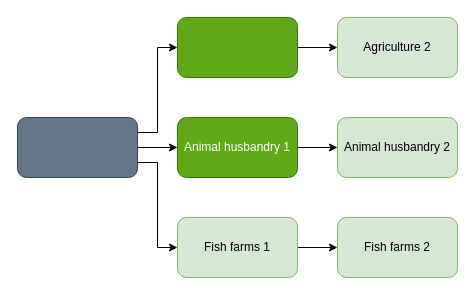
This 475x295 diagram has some shape labels left out. The shapes that lost their labels are listed below. From the top down, each one's box as (x1, y1, x2, y2) in pixels, then its label:
(176, 16, 298, 78): Agriculture 1
(16, 116, 138, 178): Traditional agriculture
